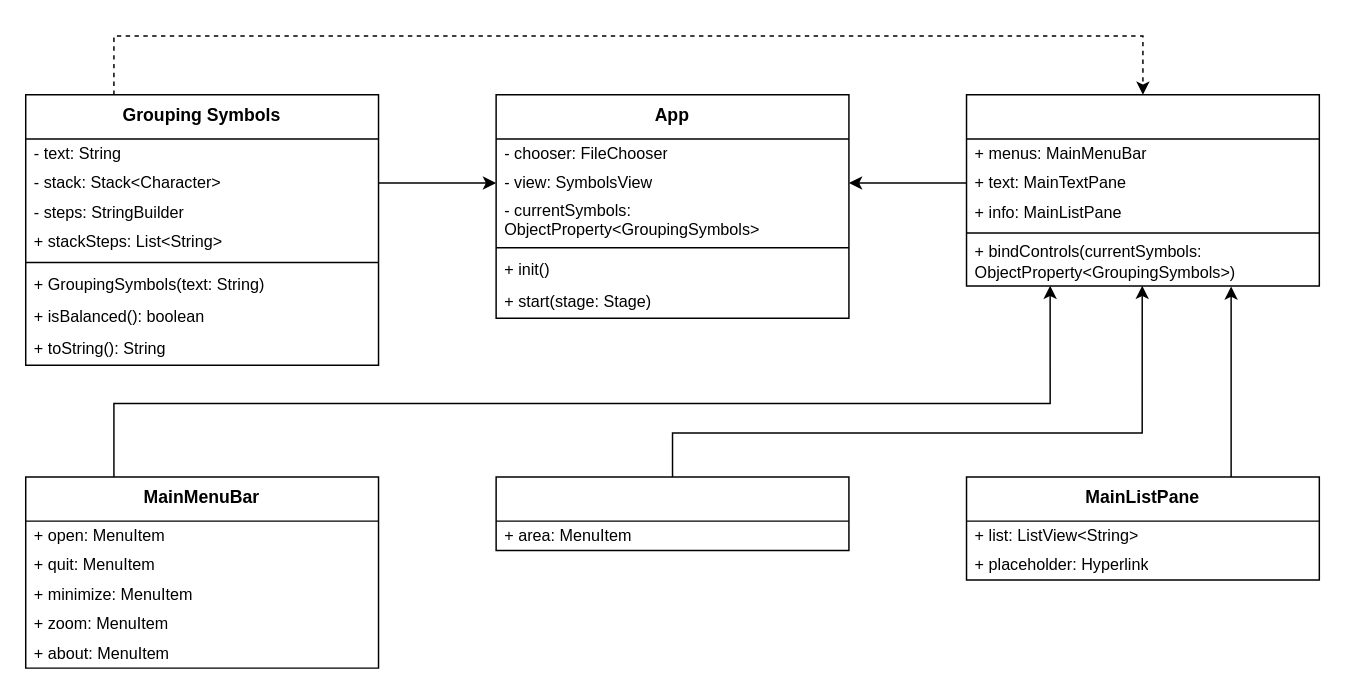
This 1345x694 diagram has some shape labels left out. The shapes that lost their labels are listed below. From the top down, each one's box as (x1, y1, x2, y2) in pixels, then its label:
(965, 93, 1319, 286): SymbolsView
(495, 476, 849, 551): MainTextPane
